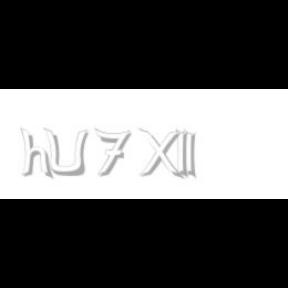7: (94, 128, 132, 178)
I: (184, 128, 198, 180)
U: (42, 128, 88, 178)
X: (138, 128, 182, 180)
h: (20, 128, 56, 180)
l: (176, 128, 192, 180)
